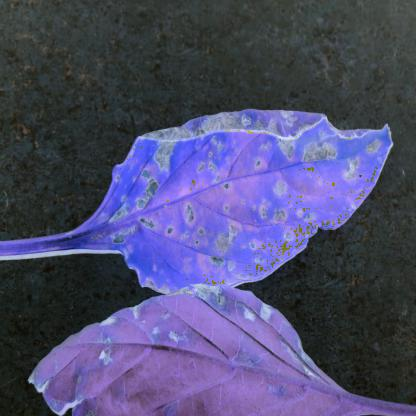bell pepper leaf spot: (57, 101, 396, 294), (26, 285, 373, 415)
